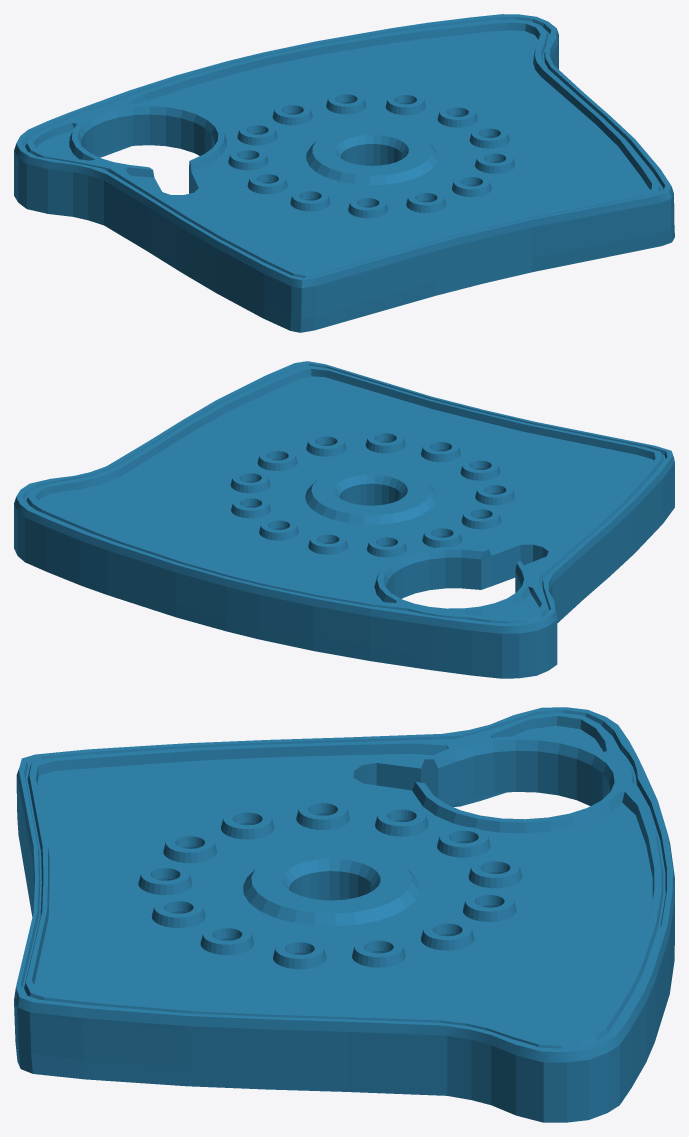
The model's file is lid_bottom.fbx.
3 renders of one model, top to bottom at view 1: azimuth 30°, elevation 25°; view 2: azimuth 150°, elevation 25°; view 3: azimuth 270°, elevation 25°, orthographic. The views are drawn at different scales.
Parts seen in each view (by area): view 1: lid; view 2: lid; view 3: lid.
Part boxes in pixels (bbox=[...]): lid: bbox=[14, 14, 674, 332]; lid: bbox=[14, 361, 674, 678]; lid: bbox=[14, 707, 674, 1122].
Size of the model in its own units: 41.95 by 3.91 by 33.73.
